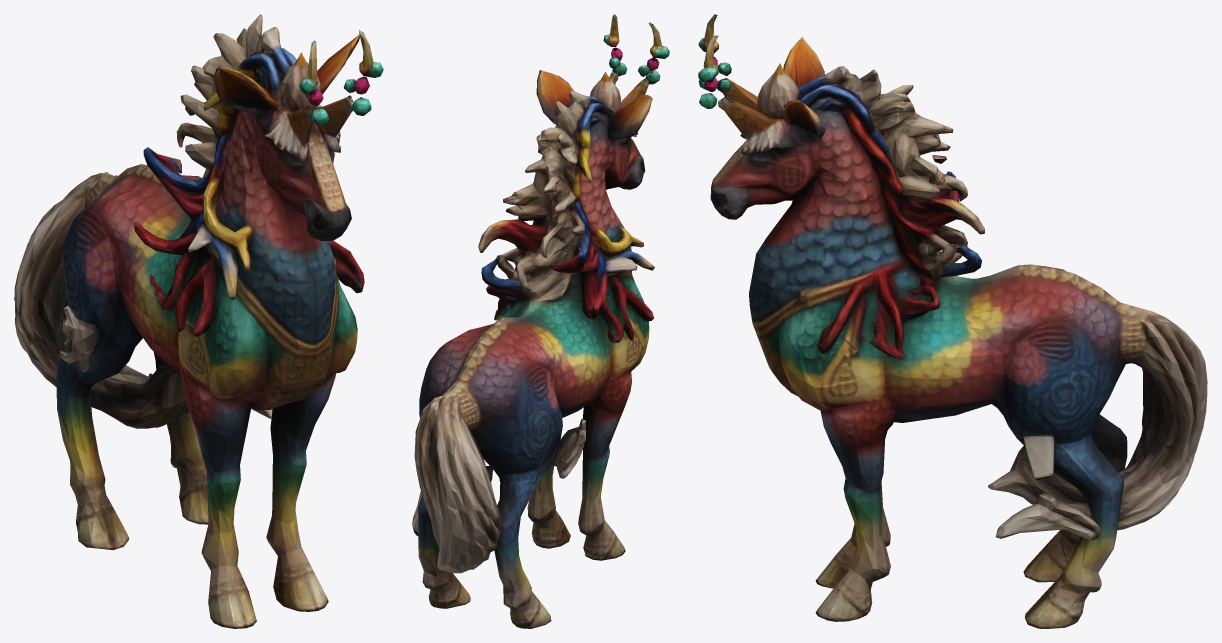
The model's file is kirinth__moodweaver.glb.
The picture shows the model from 3 angles, left to right: view 1: azimuth 30°, elevation 25°; view 2: azimuth 150°, elevation 25°; view 3: azimuth 270°, elevation 25°; orthographic projection. The views are drawn at different scales.
Parts seen in each view (by area): view 1: world; view 2: world; view 3: world.
Part boxes in pixels (x1=…): world: x1=14, y1=14, x2=383, y2=628; world: x1=412, y1=14, x2=669, y2=628; world: x1=698, y1=14, x2=1207, y2=628.
Size of the model in its own units: 0.34 by 1 by 0.8059.
1 material, 1 textured.
